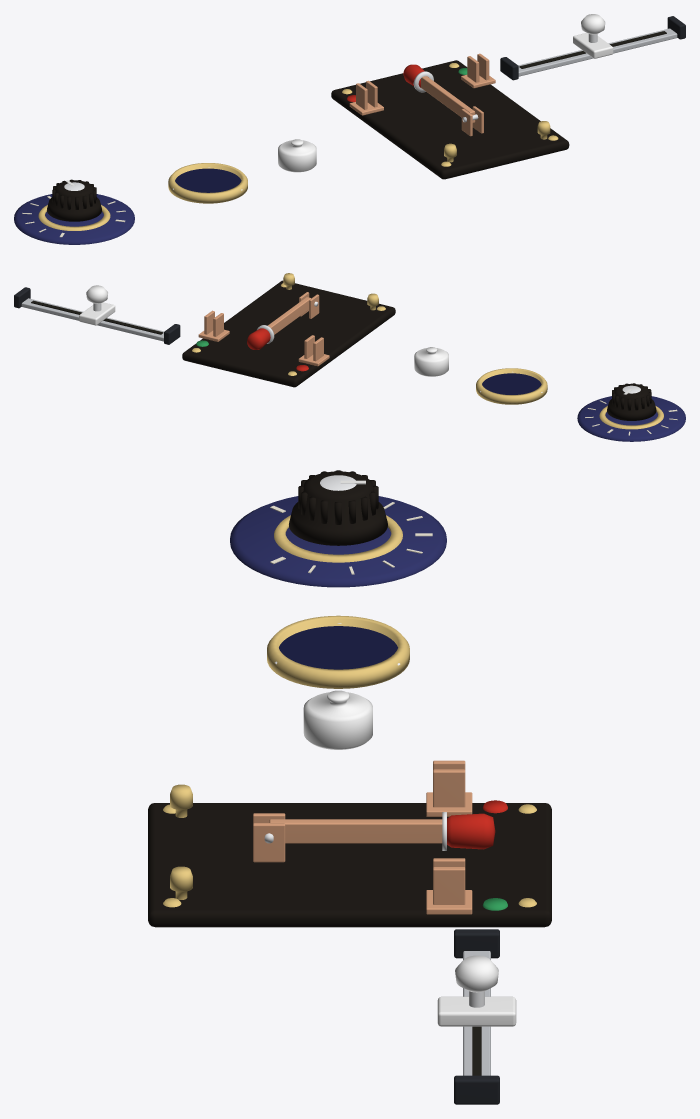
Rendered from lab-parts.glb.
The picture shows the model from 3 angles, top to bottom: view 1: azimuth 30°, elevation 25°; view 2: azimuth 150°, elevation 25°; view 3: azimuth 270°, elevation 25°; orthographic projection. The views are drawn at different scales.
Visible parts, largest first — view 1: SwitchBase, KnobDial, Socket, PullRail, KnobCap, SwitchLever, Token, PullHandle; view 2: SwitchBase, KnobDial, Socket, PullRail, KnobCap, SwitchLever, Token, PullHandle; view 3: SwitchBase, KnobDial, Socket, KnobCap, SwitchLever, PullRail, PullHandle, Token.
Boxes of the visible parts, x1,y1,x2,y2 form: SwitchBase: (331, 53, 569, 179); KnobDial: (14, 194, 134, 244); Socket: (168, 163, 247, 203); PullRail: (500, 16, 685, 80); KnobCap: (47, 179, 101, 221); SwitchLever: (403, 64, 475, 122); Token: (278, 139, 316, 172); PullHandle: (573, 14, 613, 58); SwitchBase: (182, 273, 395, 387); KnobDial: (577, 396, 685, 441); Socket: (476, 368, 547, 404); PullRail: (14, 287, 180, 344); KnobCap: (607, 383, 656, 420); SwitchLever: (247, 297, 310, 349); Token: (414, 347, 448, 376); PullHandle: (79, 285, 115, 325); SwitchBase: (148, 760, 551, 927); KnobDial: (230, 496, 446, 587); Socket: (267, 615, 409, 688); KnobCap: (289, 470, 387, 545); SwitchLever: (269, 812, 495, 850); PullRail: (454, 929, 499, 1104); PullHandle: (437, 955, 516, 1026); Token: (303, 690, 372, 749).
Bounding box in the file's own units: 6.25 × 0.33 × 1.75.
